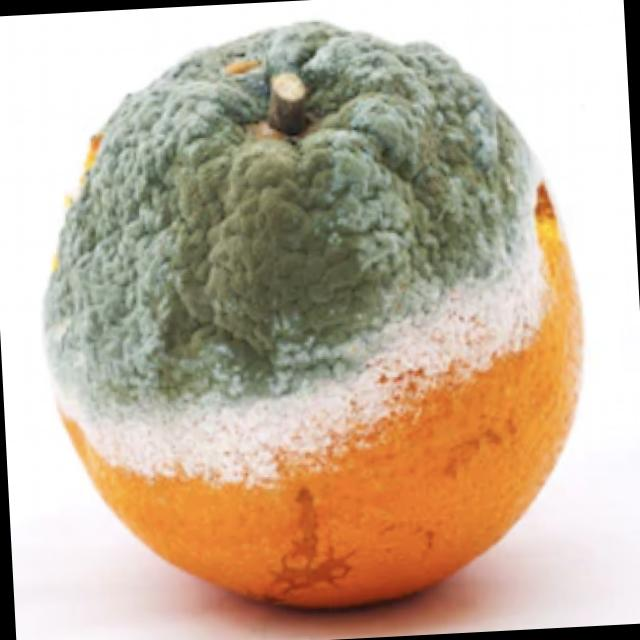rotten-orange: (28, 2, 596, 626)
